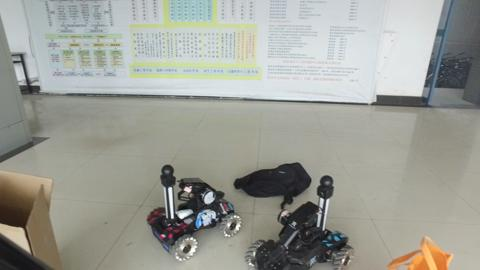bag: (235, 152, 310, 200)
chariot: (247, 174, 355, 269), (149, 161, 244, 261)
